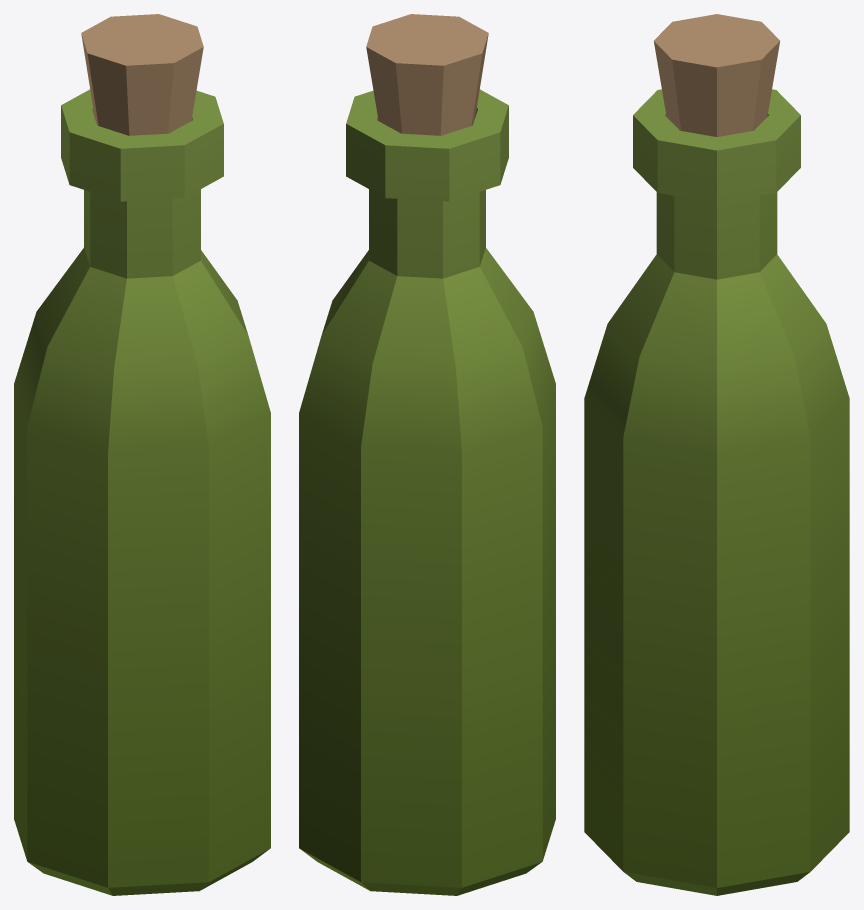
The model's file is Bottle_09.fbx.
3 renders of one model, left to right at view 1: azimuth 30°, elevation 25°; view 2: azimuth 150°, elevation 25°; view 3: azimuth 270°, elevation 25°, orthographic.
Visible parts, largest first — view 1: Bottle_09_LOD0; view 2: Bottle_09_LOD0; view 3: Bottle_09_LOD0.
Boxes of the visible parts, box(x1,y1,x2,y2) form: Bottle_09_LOD0: box(14, 14, 270, 895); Bottle_09_LOD0: box(299, 14, 555, 895); Bottle_09_LOD0: box(584, 14, 849, 895).
Size of what is drawn, in the model's own units: 0.0692 by 0.2323 by 0.0692.
